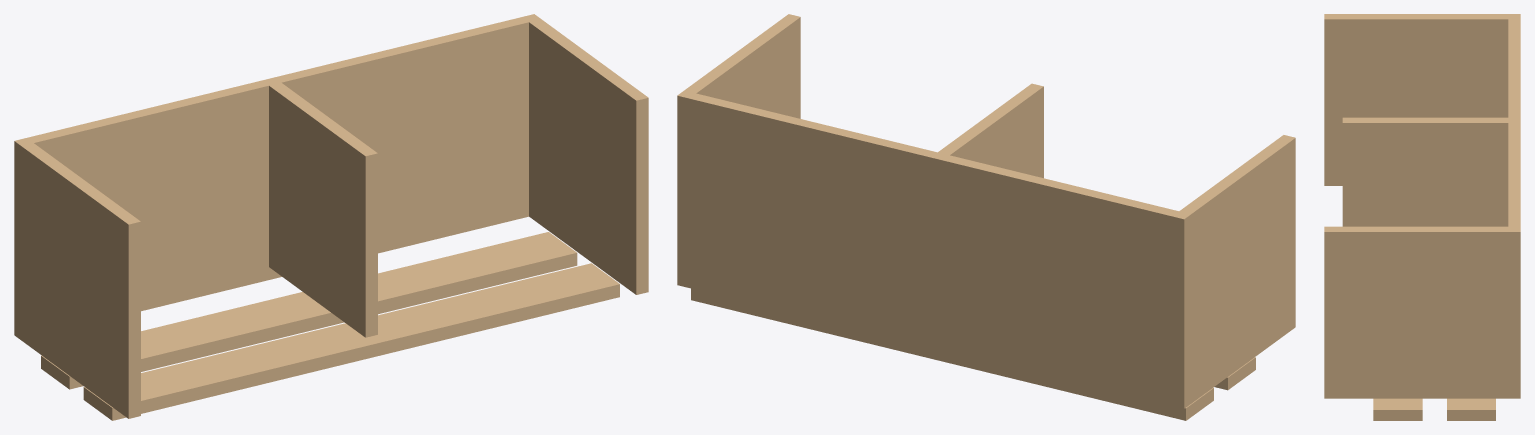
File: tinker.obj
The picture shows the model from 3 angles, left to right: view 1: azimuth 30°, elevation 25°; view 2: azimuth 150°, elevation 25°; view 3: azimuth 270°, elevation 25°; orthographic projection. The views are drawn at different scales.
Visible parts, largest first — view 1: obj_0; view 2: obj_0; view 3: obj_0.
Part boxes in pixels (<box>): obj_0: <box>14,14,648,420</box>; obj_0: <box>677,14,1295,420</box>; obj_0: <box>1324,14,1520,420</box>.
Bounding box in the file's own units: 42 × 17 × 16.
